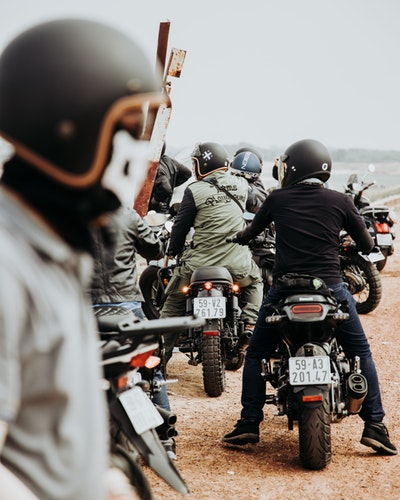helmet: (6, 23, 158, 184), (269, 133, 335, 191), (190, 143, 226, 180), (232, 144, 264, 181)
